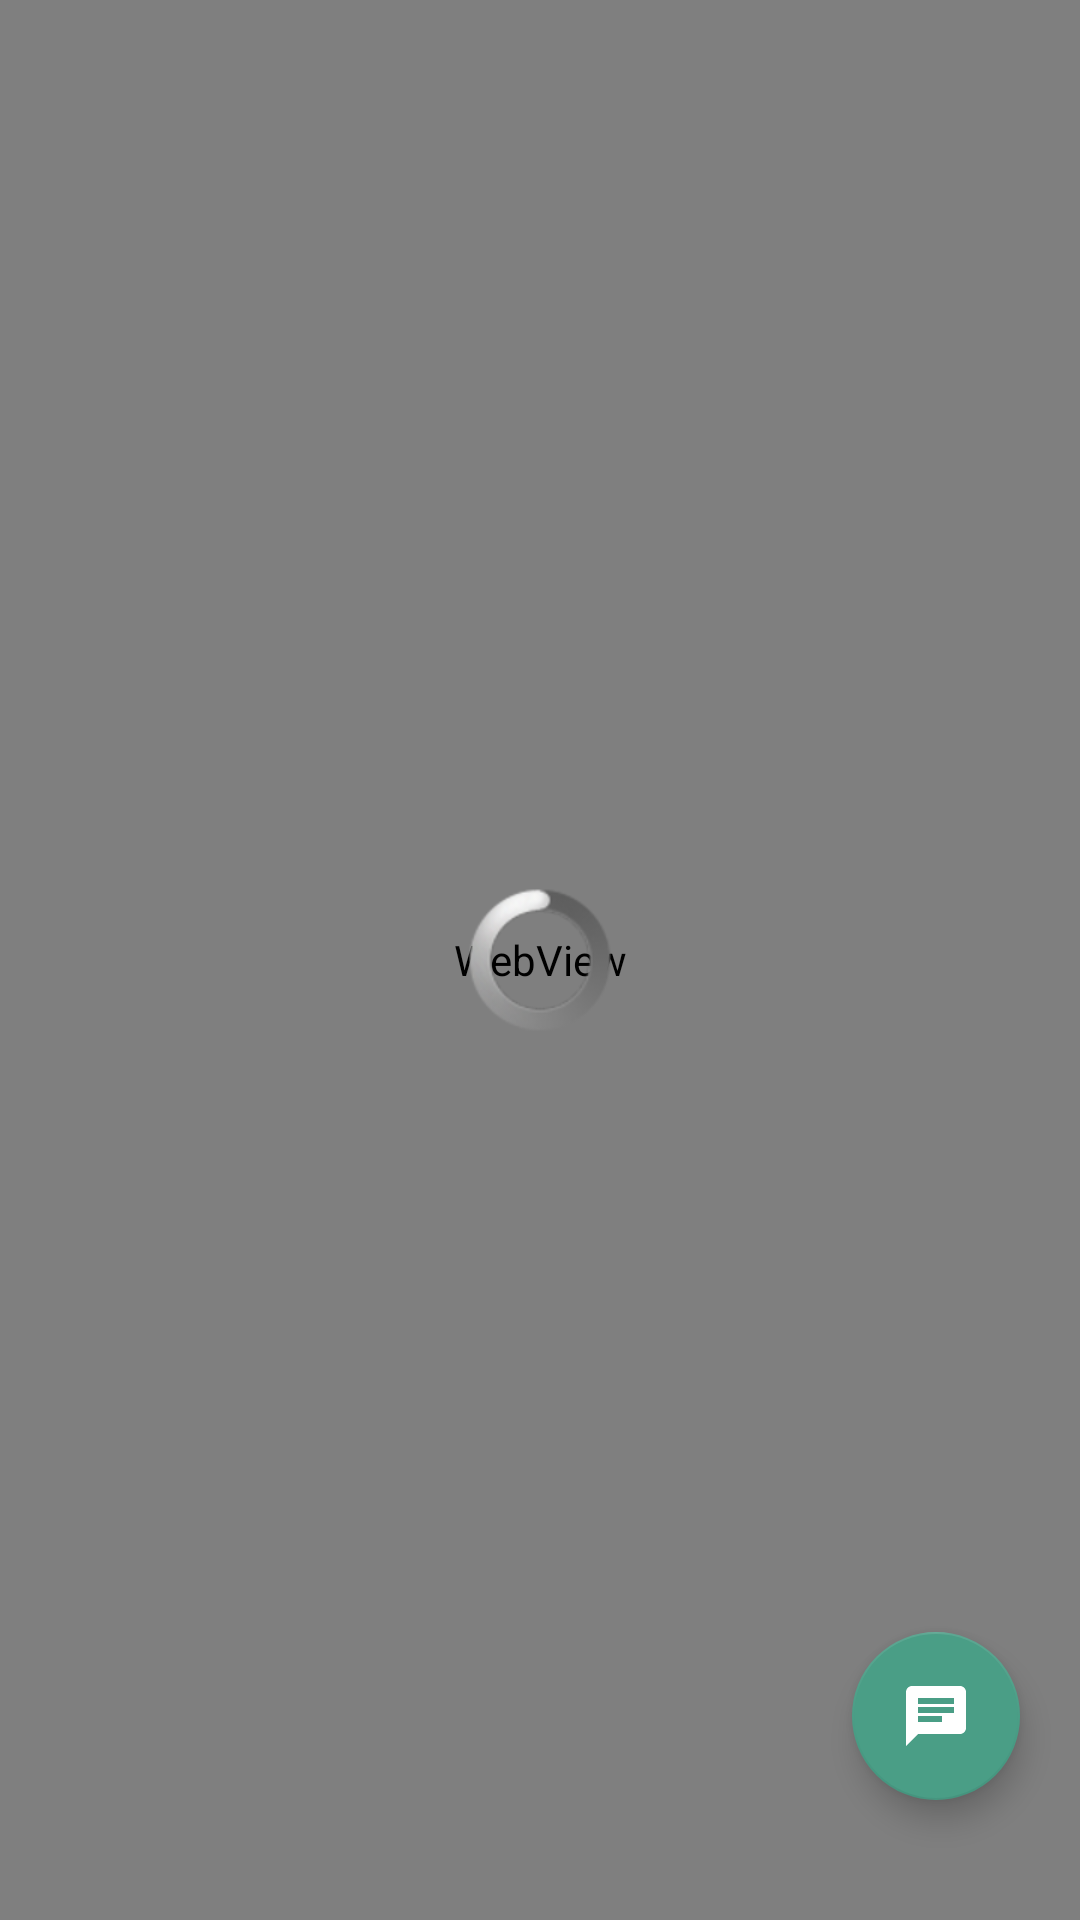

Locate icon controls on the screen. Image size 1080x1920, boxes as (x1, y1, x2, y2).
chat: (852, 1632, 1020, 1800)
